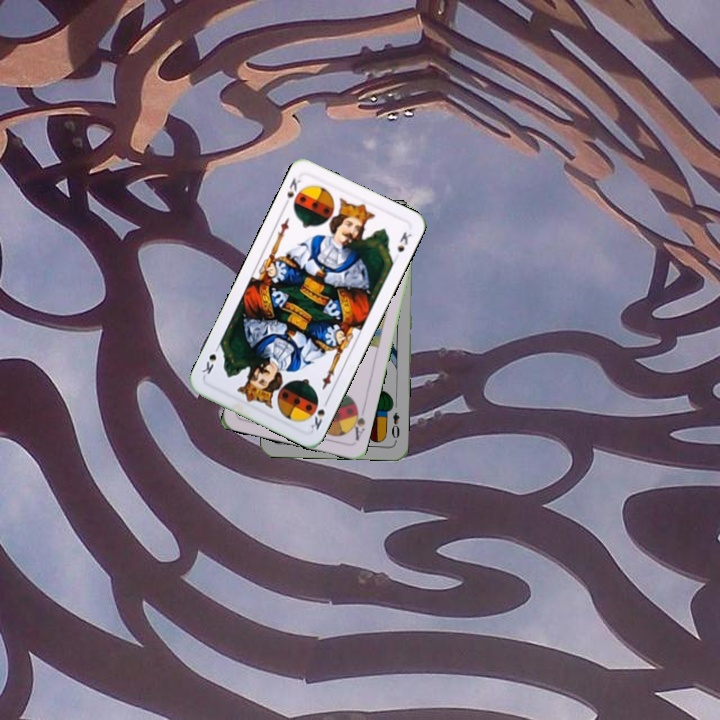EO: (387, 408, 402, 444)
SA: (346, 402, 368, 443)
SK: (306, 395, 331, 433), (280, 174, 303, 210)
